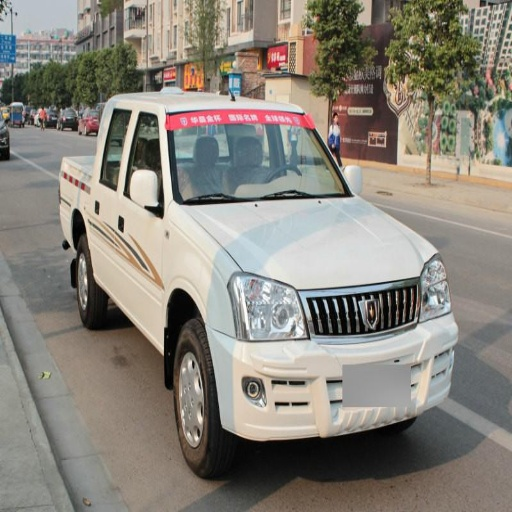front_bumper: (209, 312, 457, 441), (301, 277, 420, 323)
front_left_light: (402, 255, 451, 324)
front_right_door: (117, 108, 167, 330)
front_right_light: (221, 270, 308, 341)
hood: (181, 197, 433, 296), (311, 312, 402, 333)
